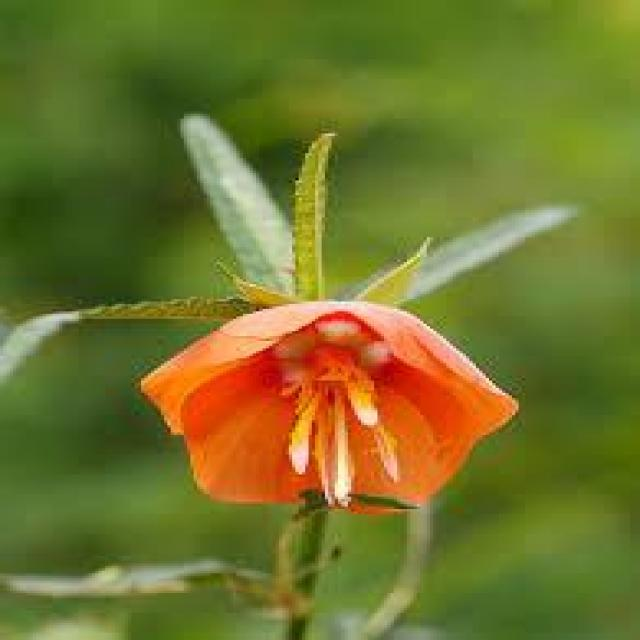organic waste: (131, 303, 519, 508)
